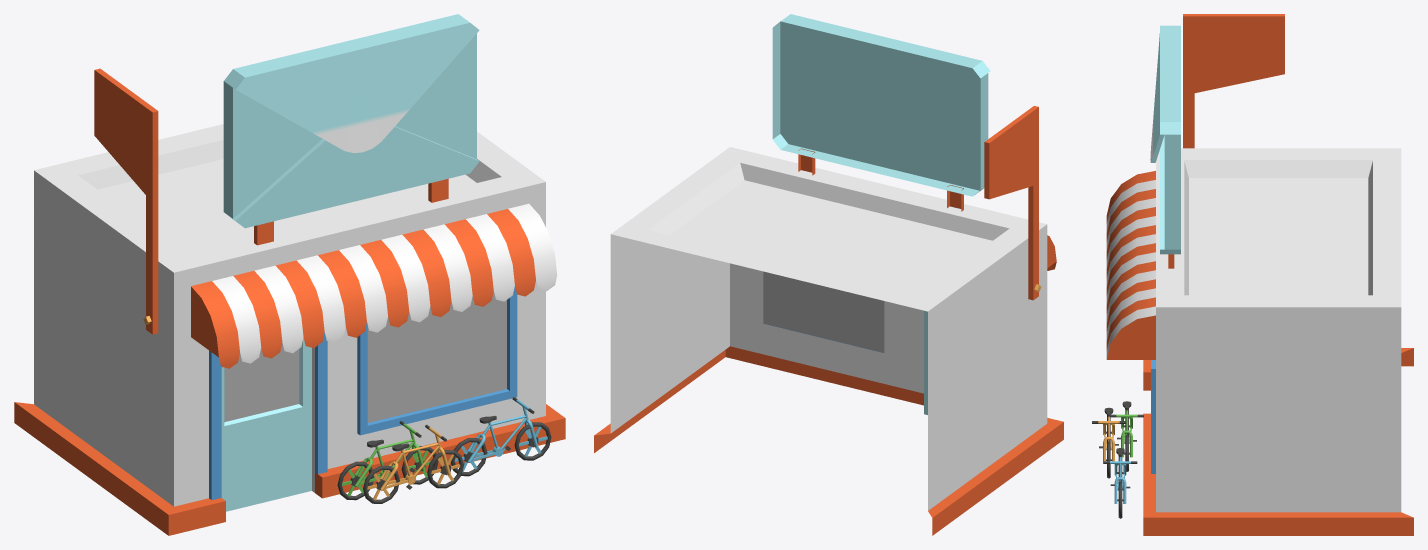
File: post_office.fbx
3 views of the same model, side by side, from view 1: azimuth 30°, elevation 25°; view 2: azimuth 150°, elevation 25°; view 3: azimuth 270°, elevation 25° (orthographic). The views are drawn at different scales.
Parts seen in each view (by area): view 1: post_office; view 2: post_office; view 3: post_office.
Part boxes in pixels (box(x1,y1,x2,y2)): post_office: box(14, 14, 565, 535); post_office: box(594, 14, 1063, 535); post_office: box(1092, 14, 1413, 535).
Bounding box in the file's own units: 517 × 537 × 414.
Materials: 1 (1 with a texture image).
